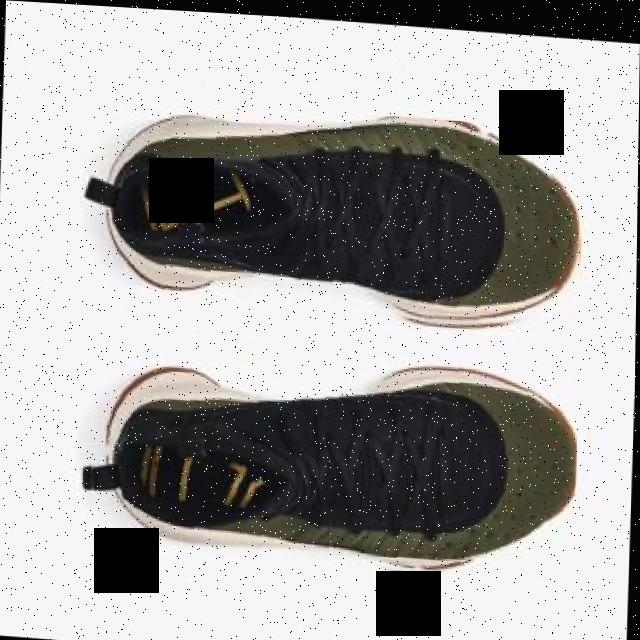shoe: (82, 334, 580, 582), (97, 92, 584, 331)
